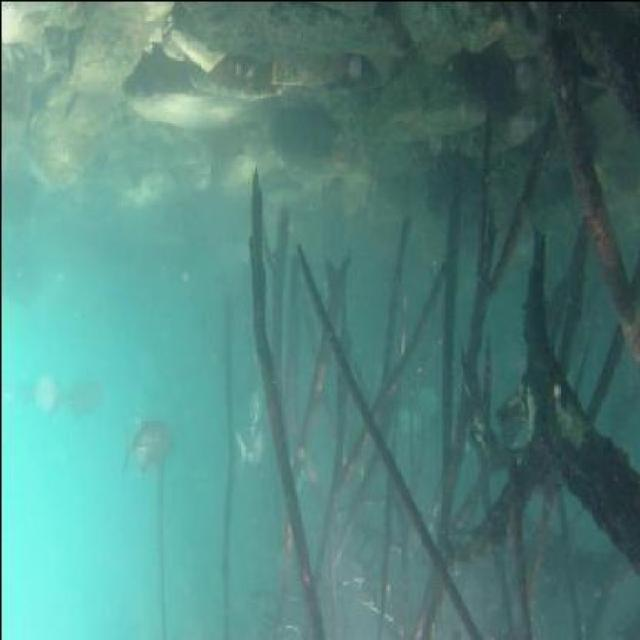Caranx_sexfasciatus_juvenile: (112, 400, 174, 478), (47, 359, 102, 421), (246, 367, 268, 431), (239, 423, 263, 477)
